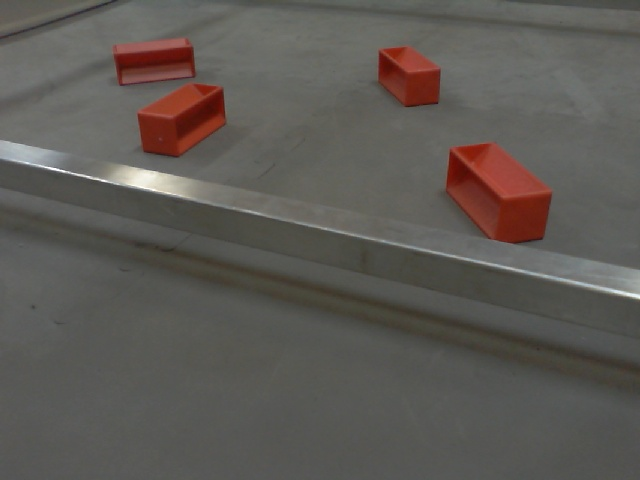RedSample: (443, 138, 552, 245), (136, 81, 229, 158), (374, 43, 444, 109), (112, 36, 198, 84)
